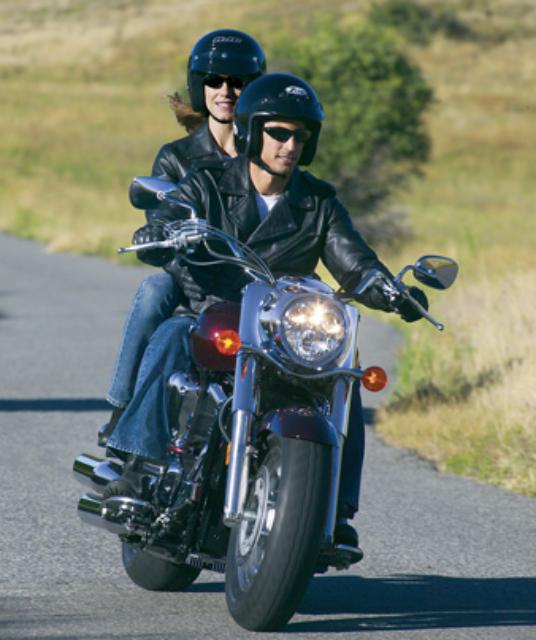helm: (233, 72, 327, 179), (183, 29, 271, 121)
motor: (71, 172, 467, 639)
